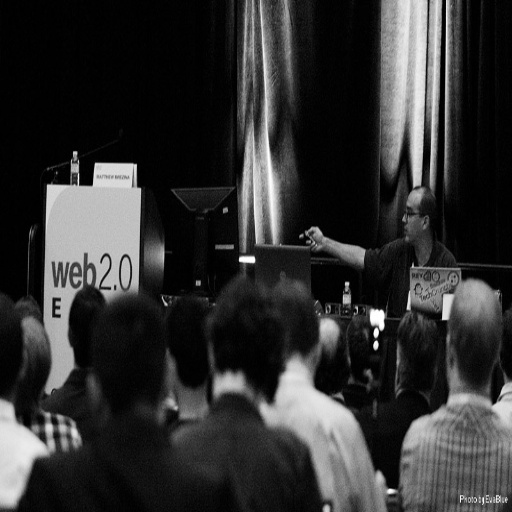hand: (299, 225, 323, 252), (375, 469, 385, 501)
